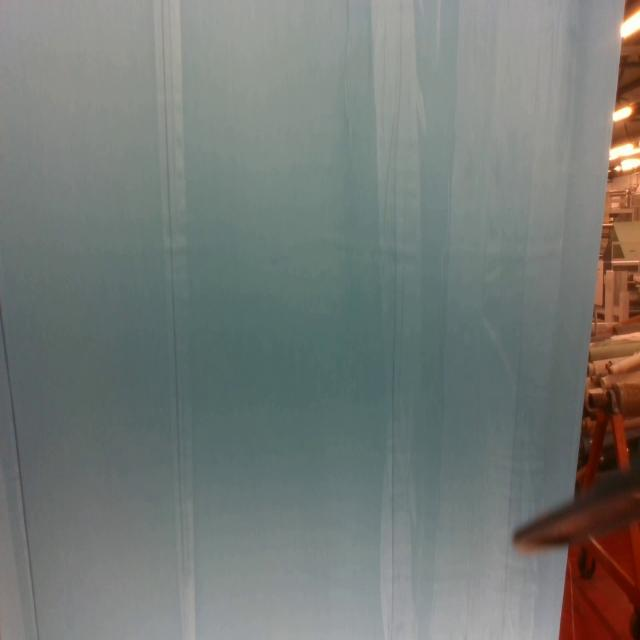crease: (154, 0, 197, 640), (508, 2, 544, 514), (0, 301, 39, 640), (387, 0, 407, 640), (341, 1, 354, 136), (498, 515, 512, 640)
